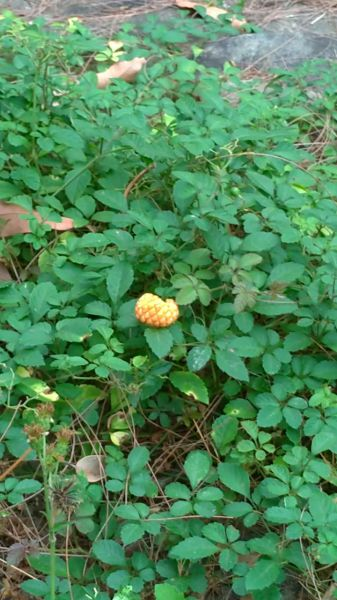eggs: (130, 290, 186, 333)
